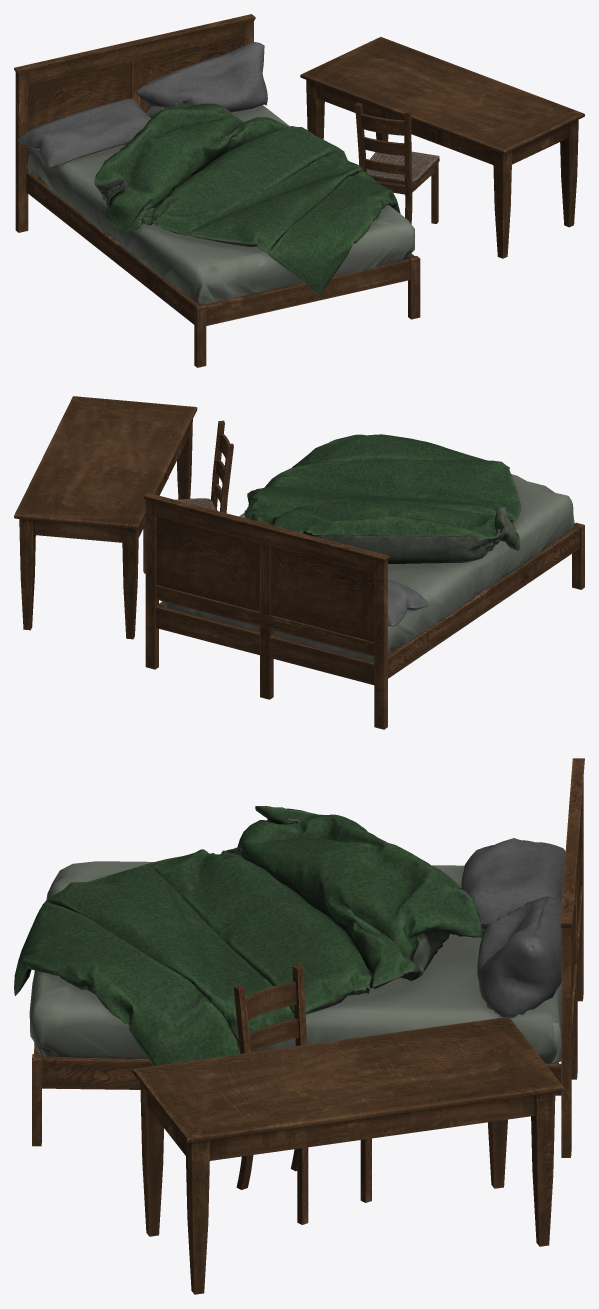
The model's file is bedroom.glb.
3 renders of one model, top to bottom at view 1: azimuth 30°, elevation 25°; view 2: azimuth 150°, elevation 25°; view 3: azimuth 270°, elevation 25°, orthographic. The views are drawn at different scales.
Visible parts, largest first — view 1: SM_Bed_01_1_0; view 2: SM_Bed_01_1_0; view 3: SM_Bed_01_1_0.
Part boxes in pixels (x1,y1,x2,y2): SM_Bed_01_1_0: [14, 14, 584, 367]; SM_Bed_01_1_0: [14, 396, 584, 729]; SM_Bed_01_1_0: [14, 758, 584, 1294].
Bounding box in the file's own units: 3.84 × 1.33 × 2.91.
1 material, 1 textured.
